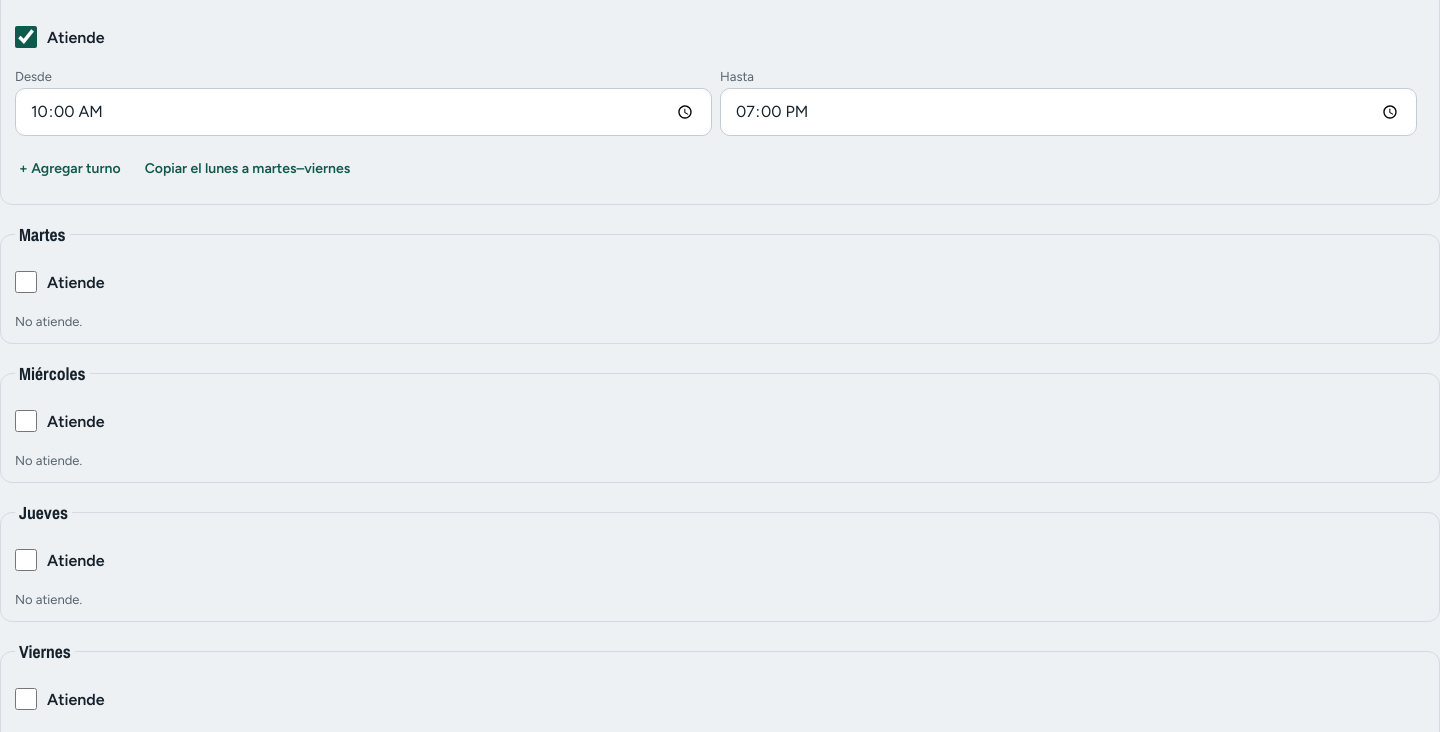
WeeklyScheduleEditor › copies Monday to Tuesday–Friday
Click the button "Copiar el lunes a martes–viernes" at (247, 168), box [141,146,354,190]
(page scrolled)
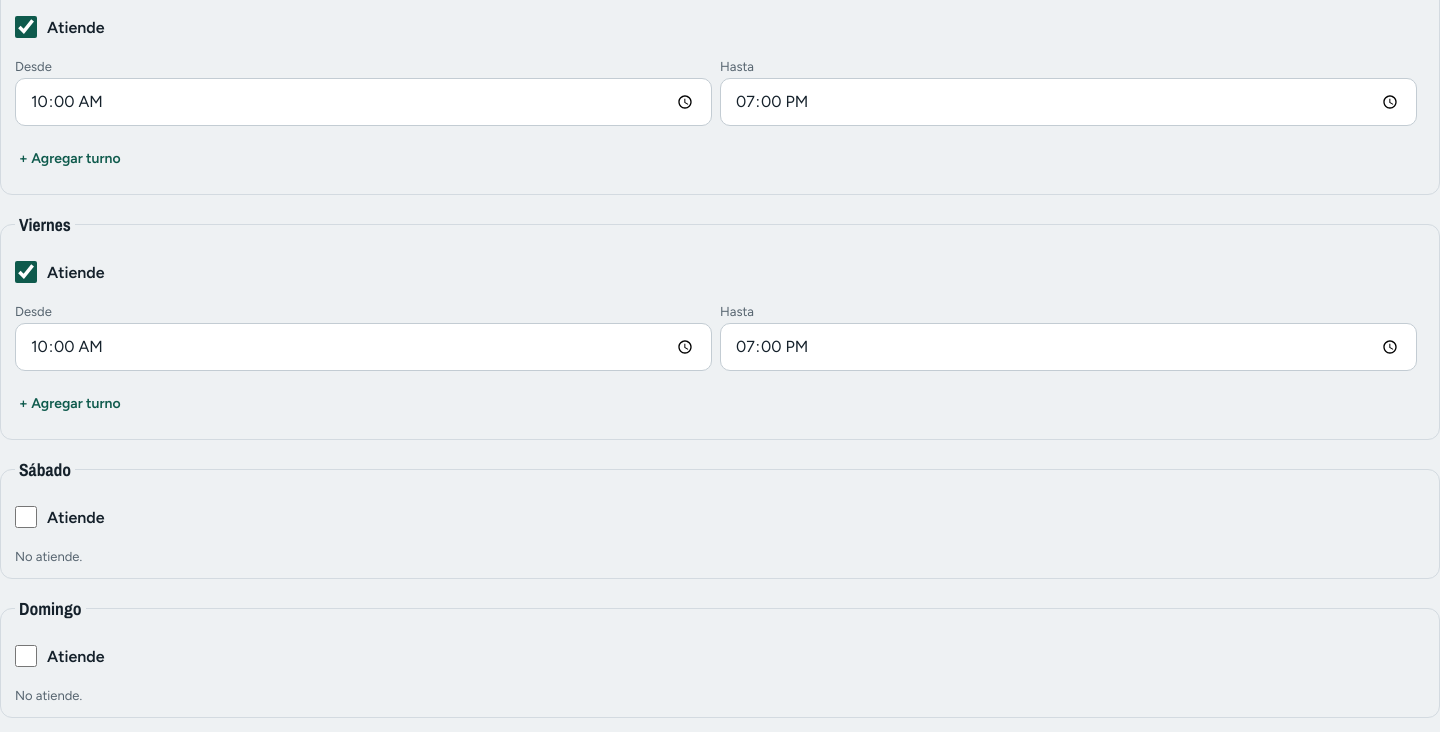
Check: the checkbox named "Atiende el sábado" is not checked, box [15,506,37,528]
Check: the time field named "Inicio del turno 1 del viernes" holds "10:00", box [15,323,712,371]
